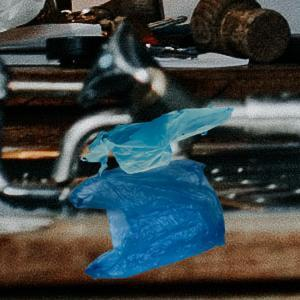plastic_bag: (65, 161, 230, 282)
